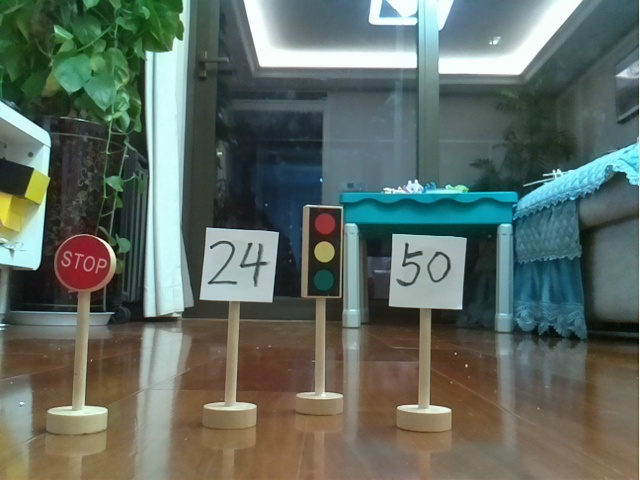Red Traffic Light: (291, 195, 357, 417)
Speed Limit 24: (197, 221, 281, 432)
Speed Limit 50: (387, 223, 468, 438)
Stop Sign: (42, 228, 122, 438)
